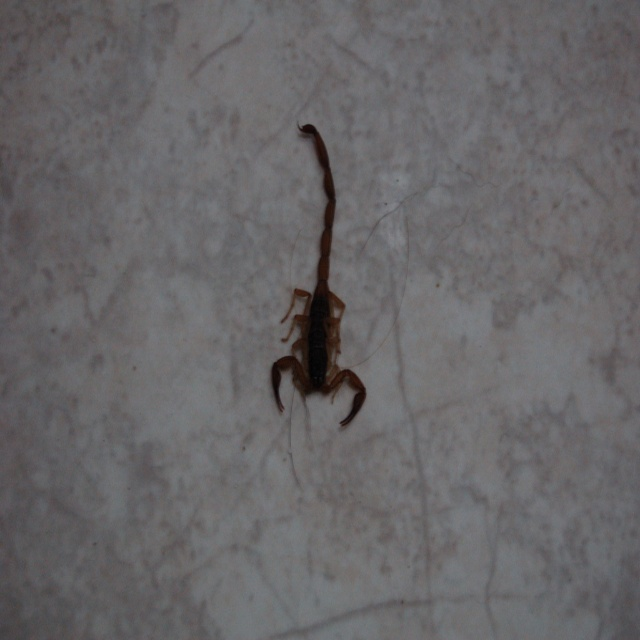Scorpion: (268, 119, 368, 433)
